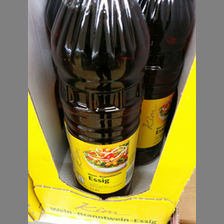vinegar: (44, 1, 144, 198)
